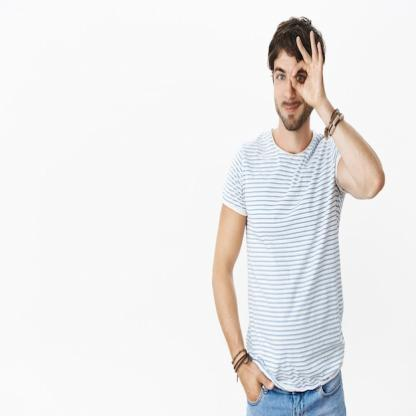ok: (289, 28, 332, 115)
